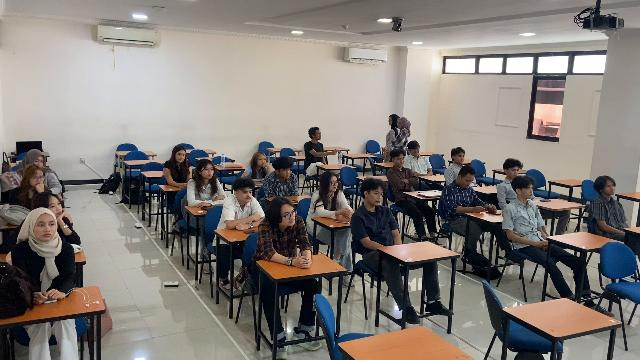fokus: (35, 216, 56, 242), (50, 197, 63, 218), (281, 207, 295, 226), (30, 171, 44, 188), (371, 189, 383, 206), (240, 187, 252, 202), (603, 181, 615, 195), (175, 150, 186, 163), (202, 165, 213, 178), (523, 186, 534, 199), (35, 156, 45, 168), (330, 177, 338, 192), (395, 155, 405, 167), (509, 166, 519, 178), (281, 167, 290, 179), (257, 155, 266, 166), (411, 146, 420, 156), (457, 153, 465, 164)
